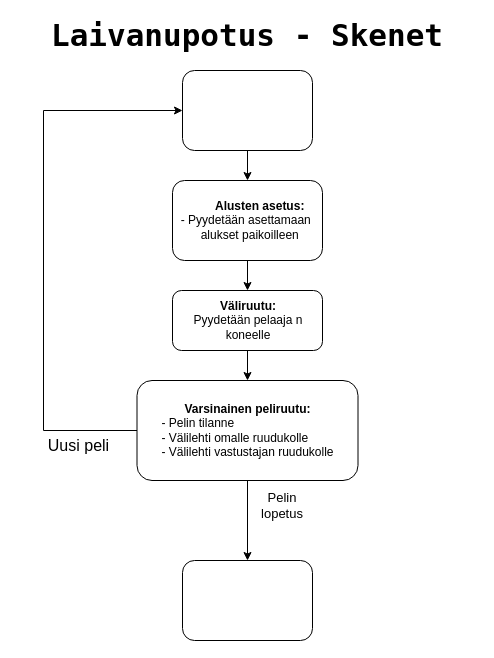
This 494x658 diagram has some shape labels left out. The box of each missing label's shape, as (x1, y1, x2, y2) in pixels:
Alkuvalikko: - Pelaajien nimet -Peliruudukon koko -Alusten lukumäärät: (182, 70, 312, 150)
Peli loppu -skene - Tekijöiden nimet: (182, 560, 312, 640)
